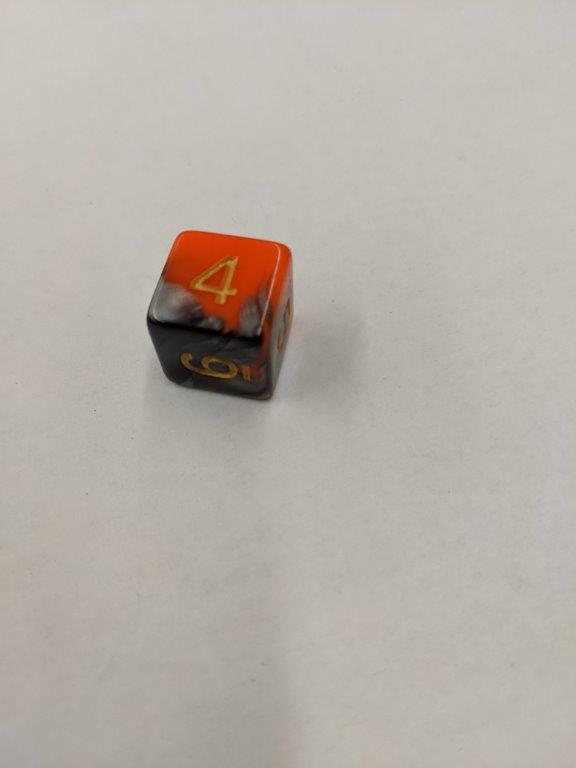d6-4: (143, 227, 297, 402)
